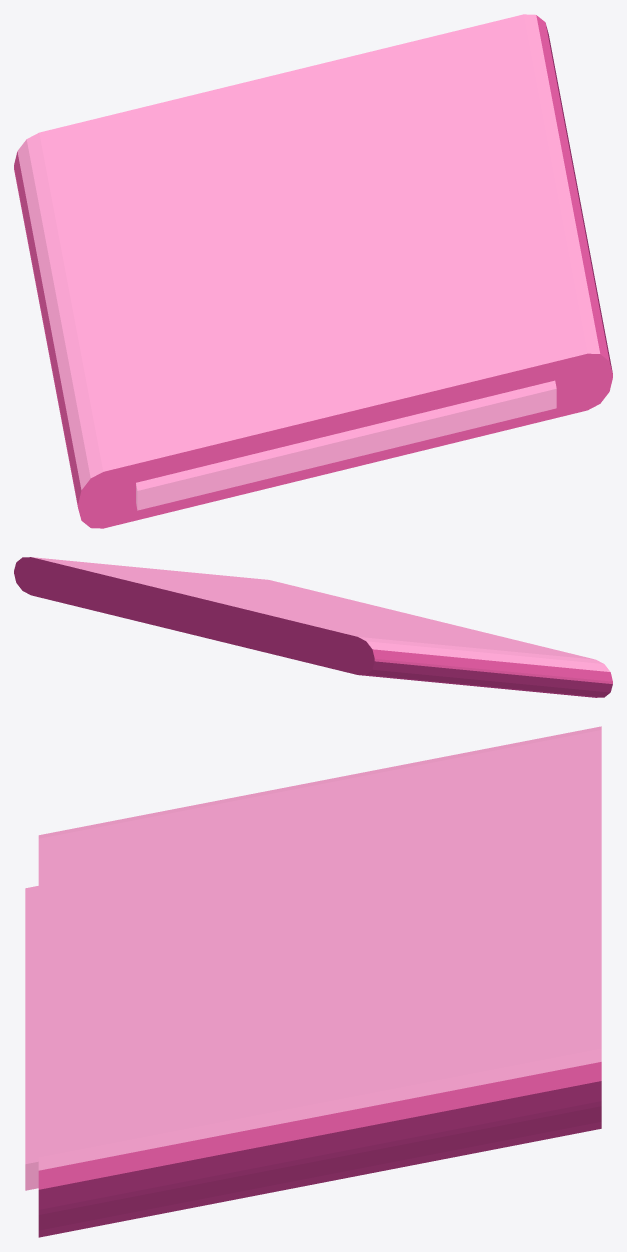
File: Plate3D_Pad.gltf
The picture shows the model from 3 angles, top to bottom: view 1: azimuth 30°, elevation 25°; view 2: azimuth 150°, elevation 25°; view 3: azimuth 270°, elevation 25°; orthographic projection. The views are drawn at different scales.
Visible parts, largest first — view 1: Plate3D_Pad_baked; view 2: Plate3D_Pad_baked; view 3: Plate3D_Pad_baked.
Part boxes in pixels (x1=…): Plate3D_Pad_baked: x1=14, y1=14, x2=612, y2=528; Plate3D_Pad_baked: x1=14, y1=557, x2=612, y2=697; Plate3D_Pad_baked: x1=25, y1=726, x2=601, y2=1237.
Size of the model in its own units: 0.94 by 0.275 by 0.512.
